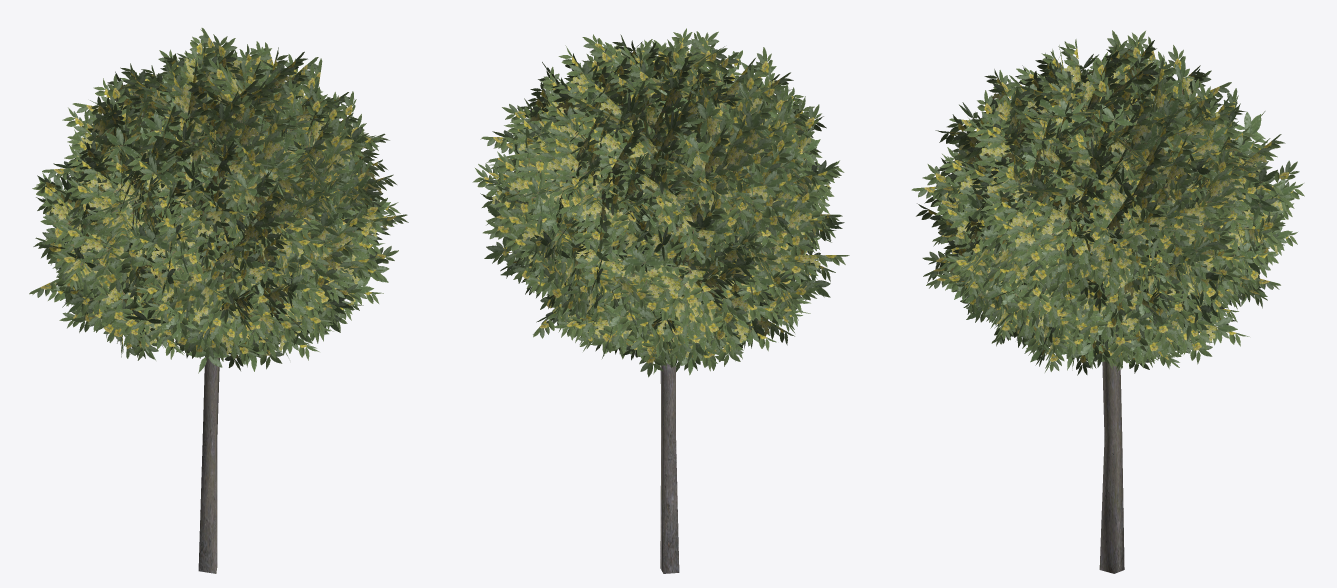
The model's file is Laurus_Nobilis_Spring_Young.glb.
The picture shows the model from 3 angles, left to right: view 1: azimuth 30°, elevation 25°; view 2: azimuth 150°, elevation 25°; view 3: azimuth 270°, elevation 25°; orthographic projection.
Visible parts, largest first — view 1: Laurus_Nobilis_Spring_Young__LOD3; view 2: Laurus_Nobilis_Spring_Young__LOD3; view 3: Laurus_Nobilis_Spring_Young__LOD3.
Boxes of the visible parts, x1=… form: Laurus_Nobilis_Spring_Young__LOD3: x1=29, y1=28, x2=408, y2=573; Laurus_Nobilis_Spring_Young__LOD3: x1=472, y1=28, x2=849, y2=573; Laurus_Nobilis_Spring_Young__LOD3: x1=911, y1=30, x2=1304, y2=573.
Bounding box in the file's own units: 1.54 × 2.27 × 1.63.
2 materials, 2 textured.
